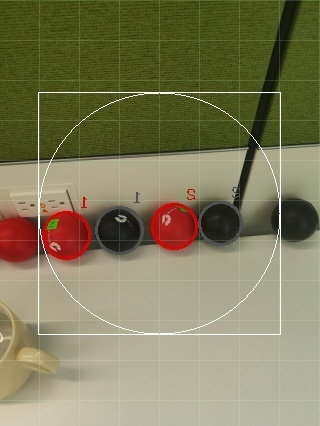Pelota blanca: (15, 345, 63, 376), (0, 300, 17, 363)
Pelota negra: (95, 204, 145, 256), (199, 201, 244, 246), (279, 198, 320, 243)
Pelota roja: (39, 209, 92, 262), (151, 201, 201, 251), (0, 214, 39, 264)
